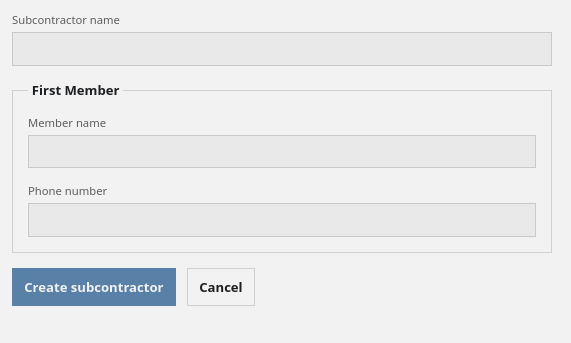
rejects an impossible phone before submitting
Type "Acme" into the field labelled "Subcontractor name" at x=282, y=49, box [12, 32, 552, 66]
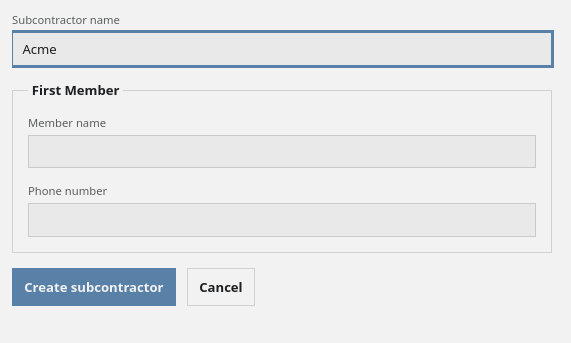
Type "Alex" into the field labelled "Member name" at x=282, y=151, box [28, 134, 536, 168]
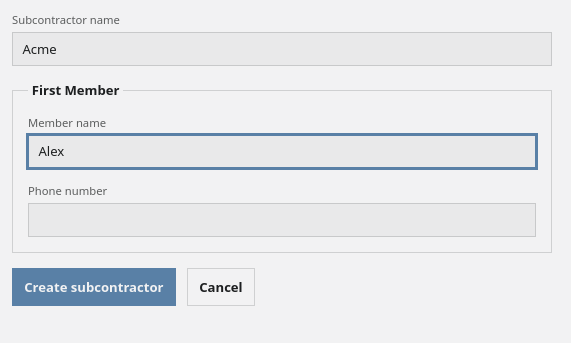
Type "123" into the field labelled "Phone number" at x=282, y=220, box [28, 203, 536, 237]
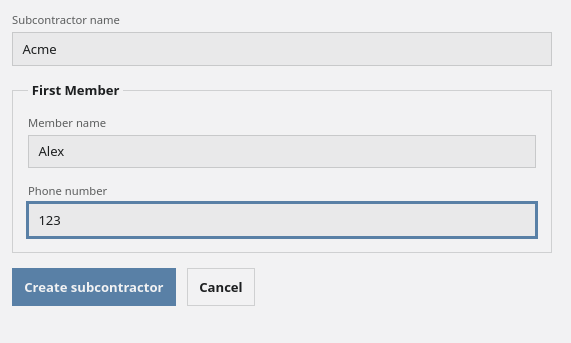
Click the button "Create subcontractor" at x=94, y=287, box [12, 268, 176, 306]
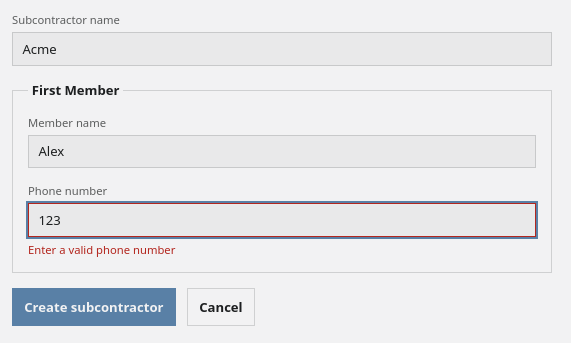
Result: the text "Enter a valid phone number" is shown at [28, 242, 175, 257]
